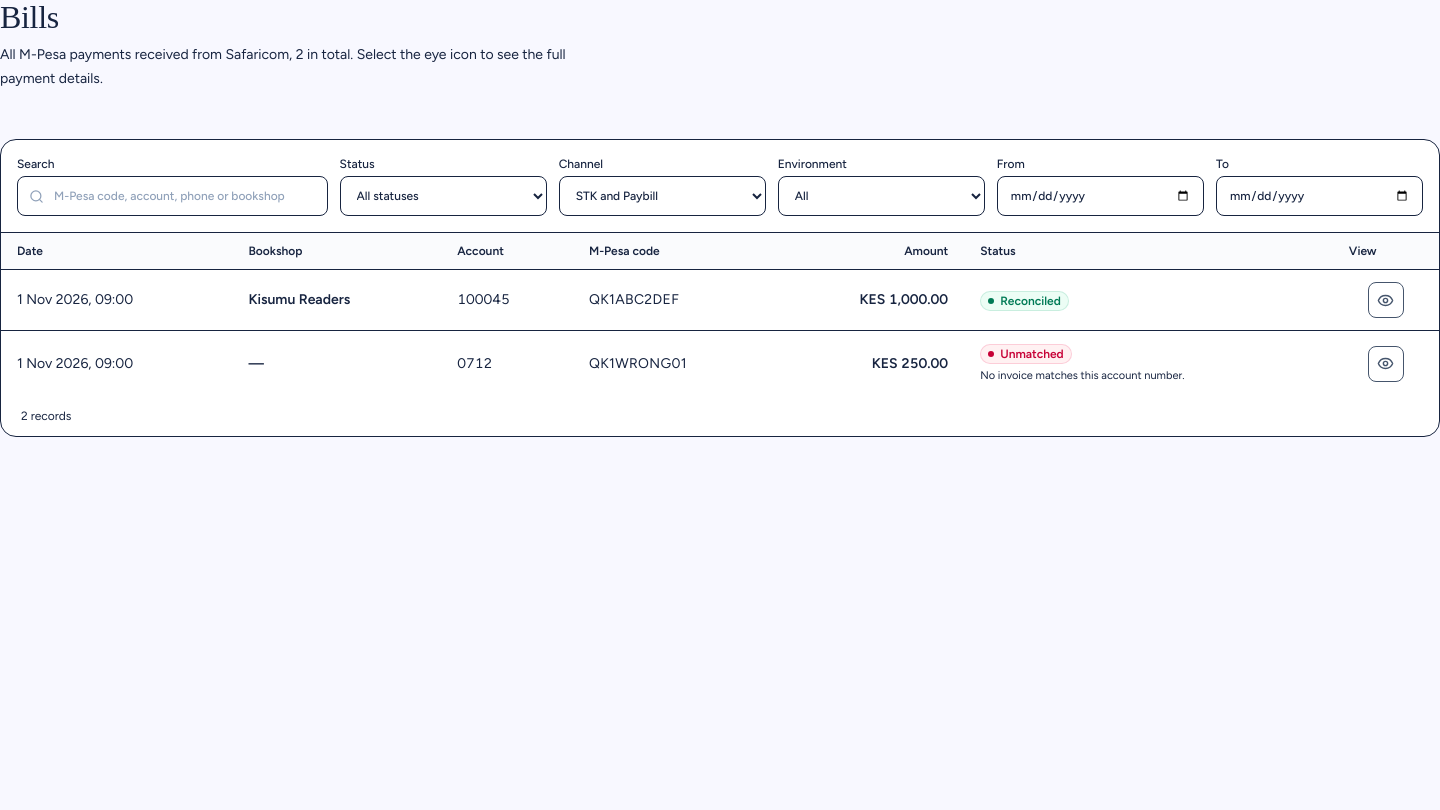
Test: Bills › lists every Safaricom payment from saf_payments with a view icon for details
The width and height of the screenshot is (1440, 810).
Expected: the heading "Bills" is shown, [0, 0, 59, 35]
Expected: the column heading "Date" is shown, [1, 233, 232, 270]
Click the button named "View payment QK1WRONG01" at (1386, 364), box [1368, 346, 1404, 382]
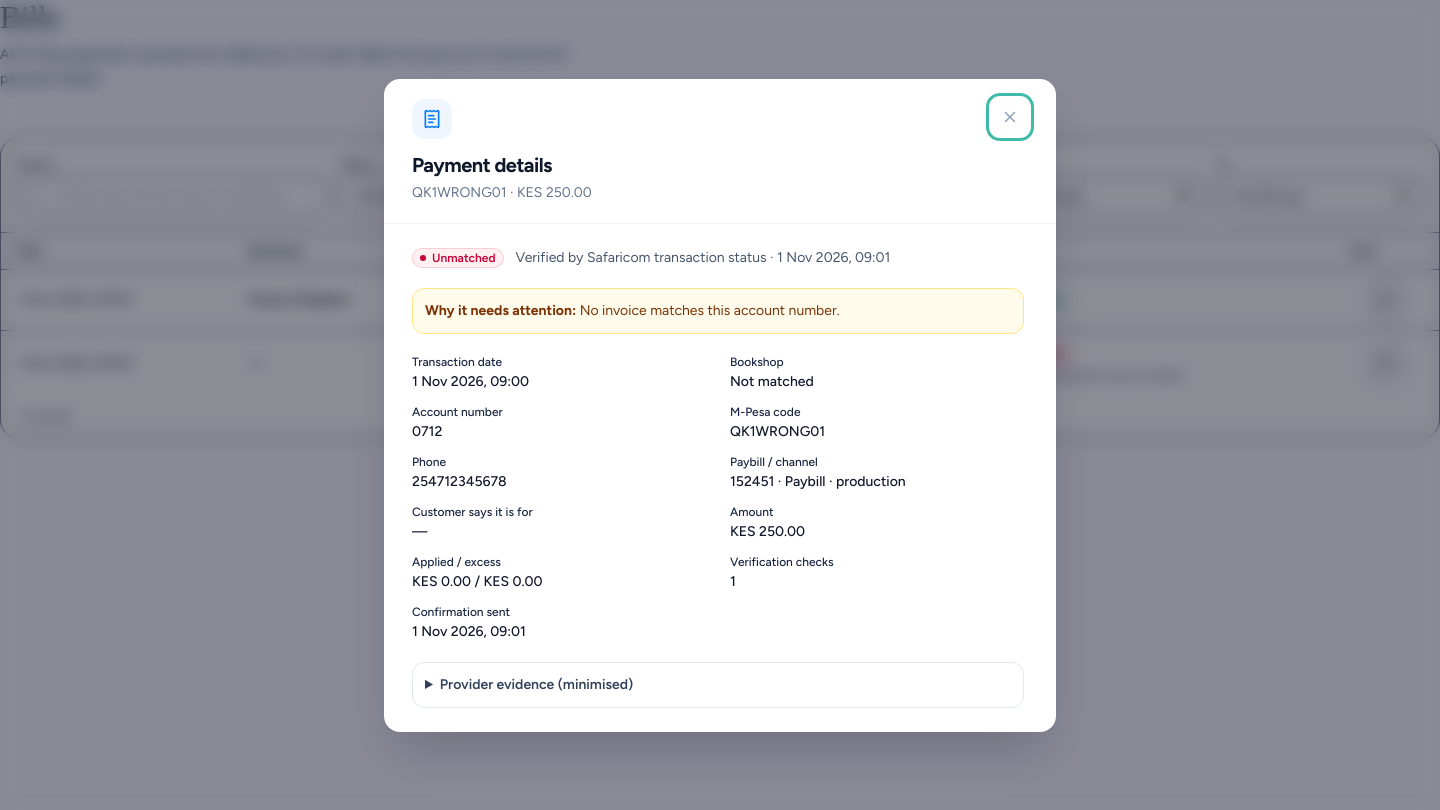
Now the heading "Payment details" is shown, box [412, 152, 552, 176]
Now the text "No invoice matches this account number" is shown, box [580, 302, 840, 318]
